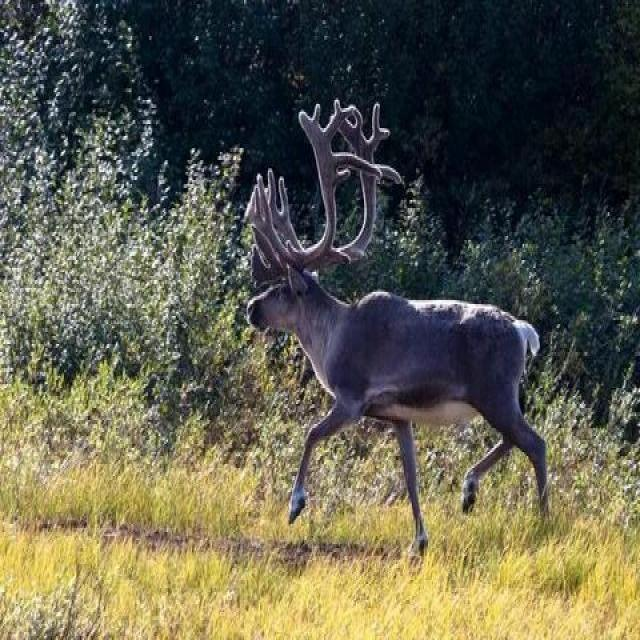deer: (223, 138, 566, 537)
